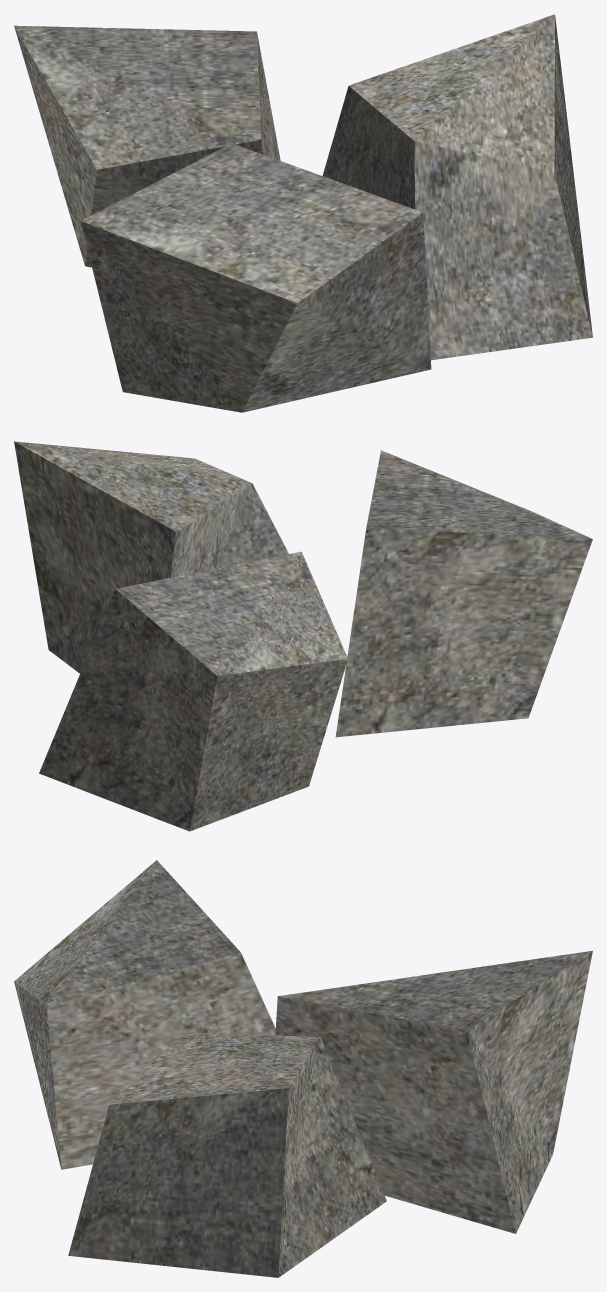
File: res_stone.fbx
3 renders of one model, top to bottom at view 1: azimuth 30°, elevation 25°; view 2: azimuth 150°, elevation 25°; view 3: azimuth 270°, elevation 25°, orthographic. The views are drawn at different scales.
Parts seen in each view (by area): view 1: polySurface1; view 2: polySurface1; view 3: polySurface1.
Boxes of the visible parts, x1,y1,x2,y2 form: polySurface1: [14, 14, 592, 412]; polySurface1: [14, 441, 592, 831]; polySurface1: [14, 860, 592, 1277].
Bounding box in the file's own units: 15.81 × 6.41 × 15.53.
